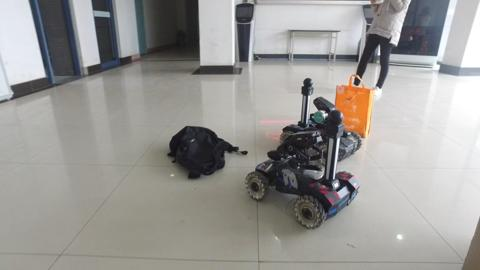chariot: (247, 107, 362, 229), (291, 76, 363, 161)
